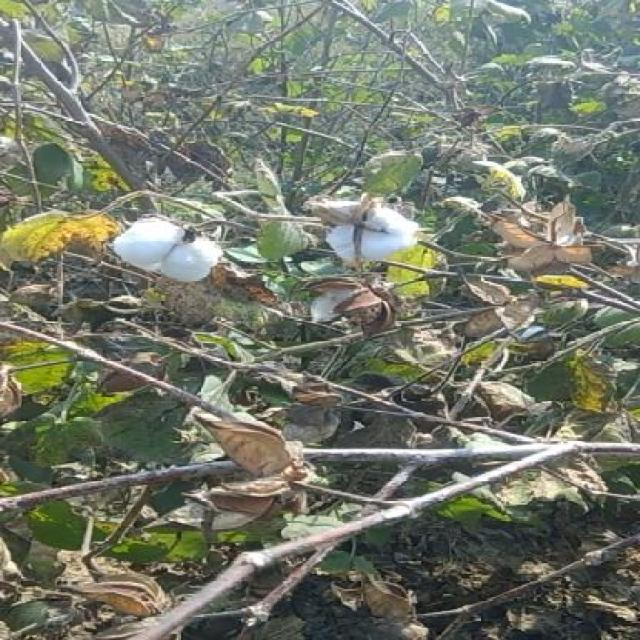cotton_ready: (280, 190, 443, 278), (82, 211, 226, 297)
